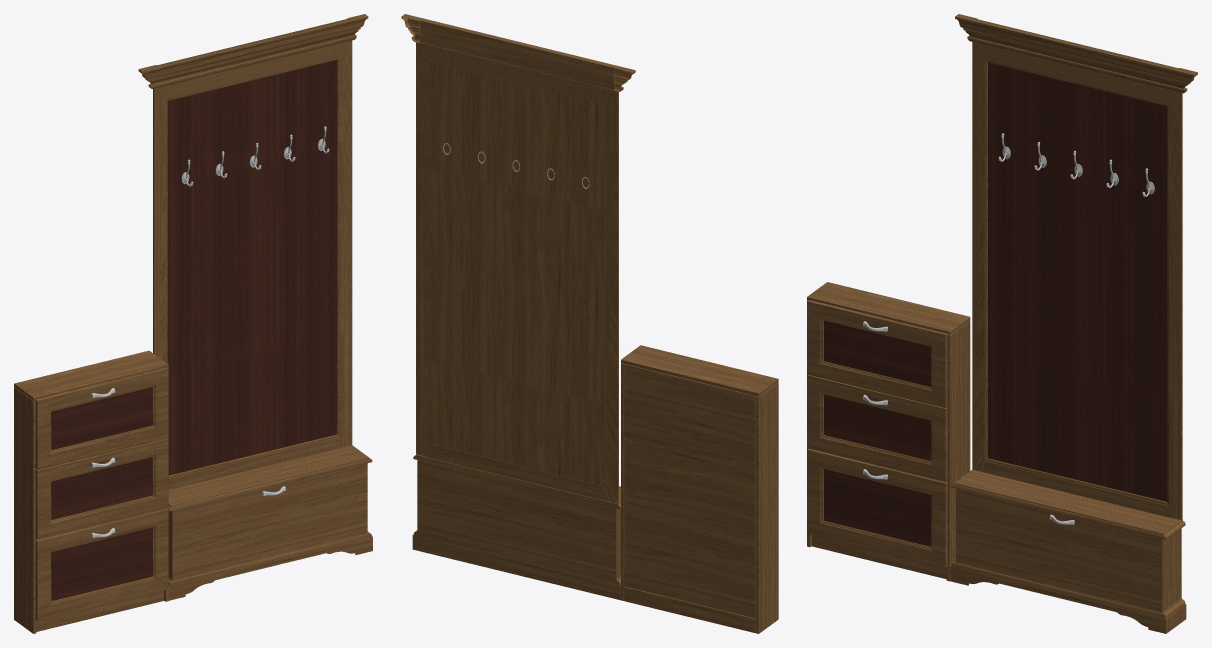
File: veshalka__vray.fbx
3 views of the same model, side by side, from view 1: azimuth 30°, elevation 25°; view 2: azimuth 150°, elevation 25°; view 3: azimuth 330°, elevation 25° (orthographic). The views are drawn at different scales.
Visible parts, largest first — view 1: veshalka_001; view 2: veshalka_001; view 3: veshalka_001.
Boxes of the visible parts, bbox=[...] form: veshalka_001: bbox=[14, 14, 372, 633]; veshalka_001: bbox=[401, 14, 778, 633]; veshalka_001: bbox=[807, 14, 1197, 633].
Size of the model in its own units: 155 by 220 by 19.32.
